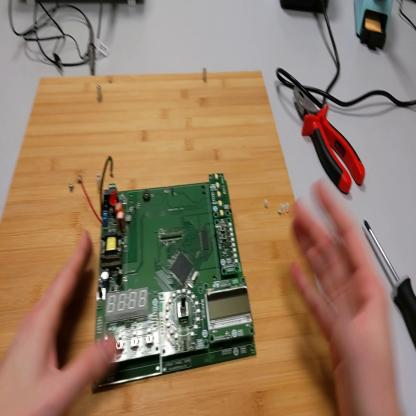hand: (292, 178, 402, 415), (2, 234, 120, 416)
low voltage board: (85, 159, 259, 385)
oscilloscope probe tip: (87, 17, 97, 78)
pliers: (294, 85, 366, 198)
screwdriver-: (365, 219, 415, 347)
welder base: (356, 2, 395, 55)
welder station: (282, 1, 331, 19)
working area: (2, 69, 337, 415)
